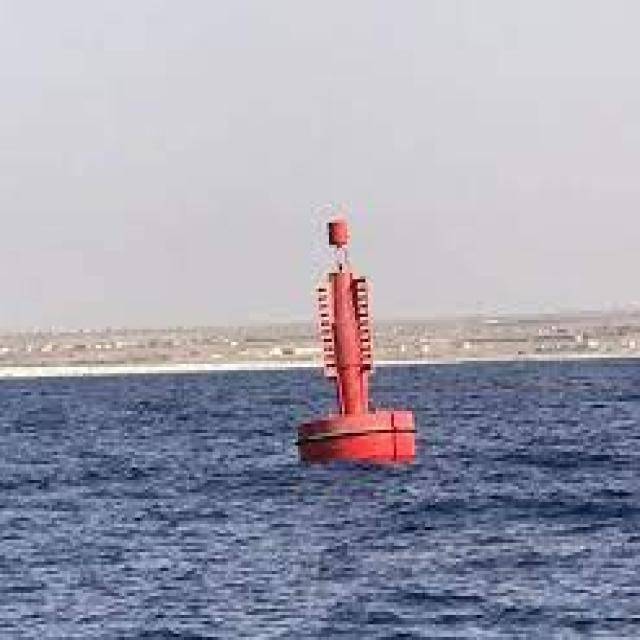buoy: (278, 171, 426, 488)
